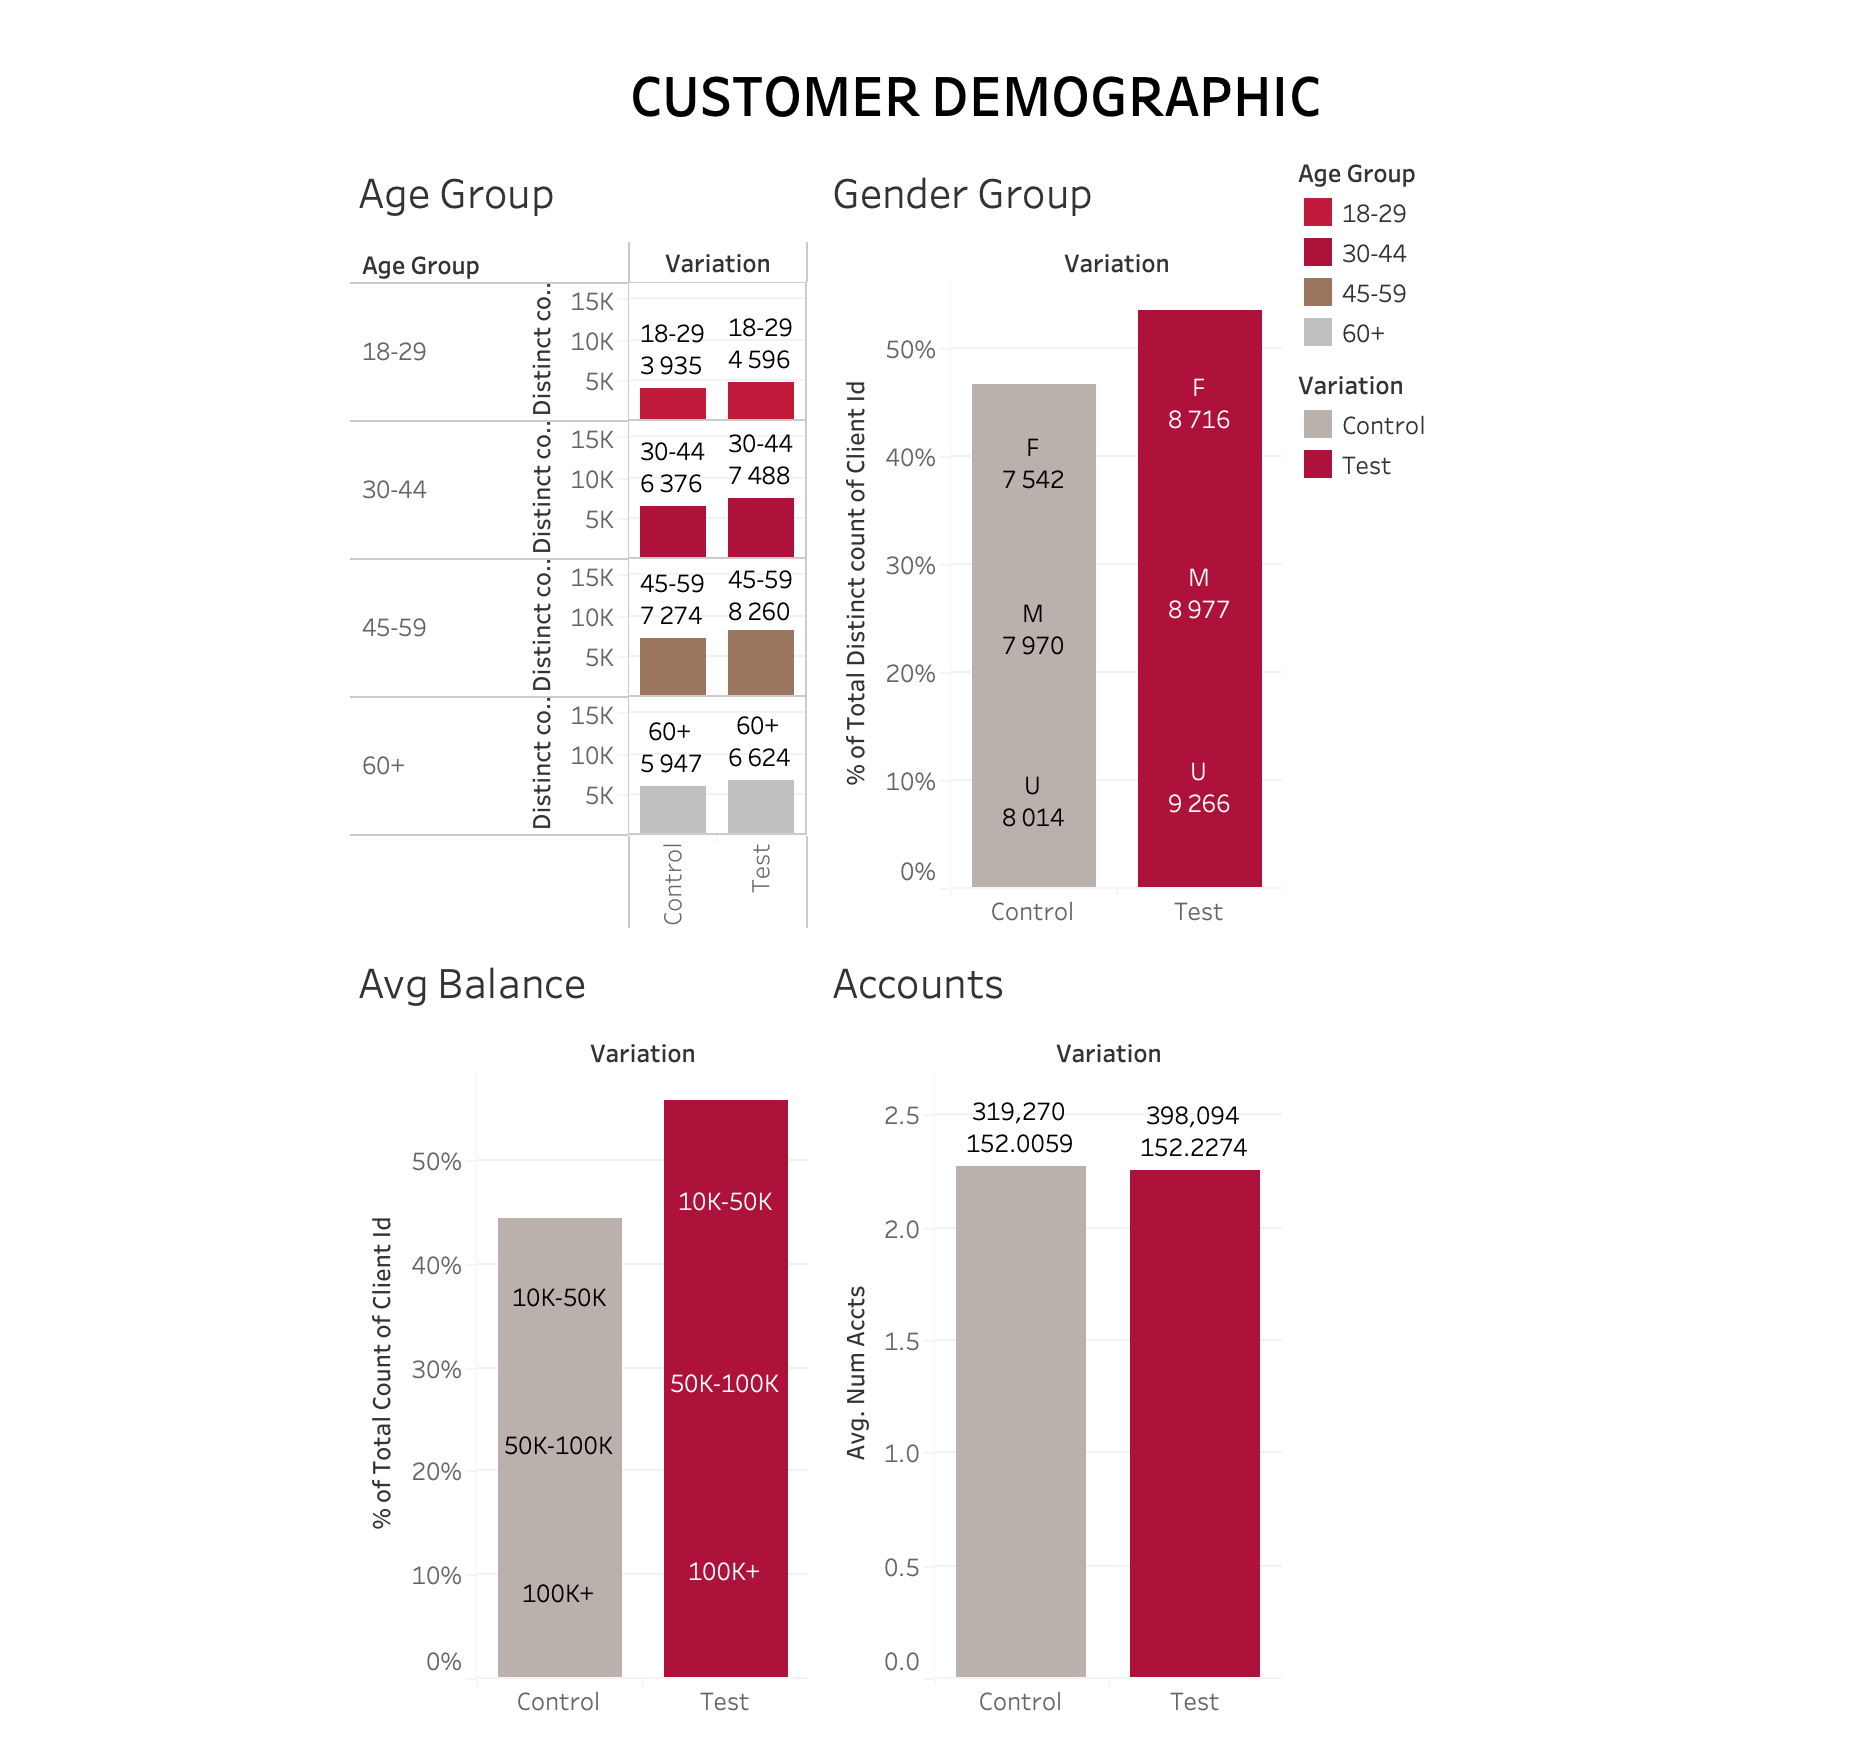

The dashboard page shown, as its layout file describes it:
{"tool":"tableau","page":{"name":"CUSTOMER DEMO","canvas":[650,860],"ordinal":0},"visuals":[{"type":"text","box":[8,9.1,634,53.7]},{"type":"worksheet","title":"Age Group","mark":"Automatic","rows":["Calculation_0865285759930405","client_id"],"cols":["variation"],"box":[8,62.8,237,394.1]},{"type":"worksheet","title":"Gender Group","mark":"Automatic","rows":["client_id"],"cols":["variation"],"box":[245,62.8,237,394.1]},{"type":"legend","title":"Age Group","param":"[federated.112pgzj03jd7hx187qudo004a832].[none:Calculation_0865285759930405:nk]","box":[482,62.8,160,120.4]},{"type":"legend","title":"Avg Balance","param":"[federated.112pgzj03jd7hx187qudo004a832].[none:variation:nk]","box":[482,183.2,160,75]},{"type":"worksheet","title":"Avg Balance","mark":"Automatic","rows":["client_id"],"cols":["variation"],"box":[8,456.8,237,394.1]},{"type":"worksheet","title":"Accounts","mark":"Automatic","rows":["num_accts"],"cols":["variation"],"box":[245,456.8,237,394.1]}]}

Visuals, with their boxes on the page's 650x860 design canvas (x1, y1, x2, y2). These are canvas units, not pixel positions in the 1860x1756 screenshot, which may show the page scaled, cropped or inside an application window:
text: detection(8, 9, 642, 63)
"Age Group" worksheet: detection(8, 63, 245, 457)
"Gender Group" worksheet: detection(245, 63, 482, 457)
"Age Group" legend: detection(482, 63, 642, 183)
"Avg Balance" legend: detection(482, 183, 642, 258)
"Avg Balance" worksheet: detection(8, 457, 245, 851)
"Accounts" worksheet: detection(245, 457, 482, 851)
